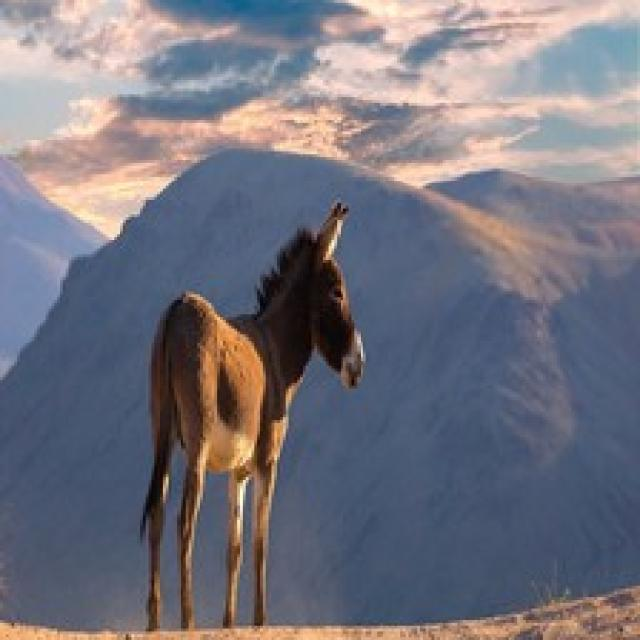Donkey: (105, 183, 377, 640)
